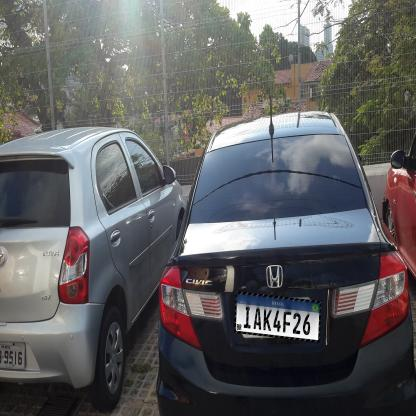PlacaM: (234, 292, 321, 342)
